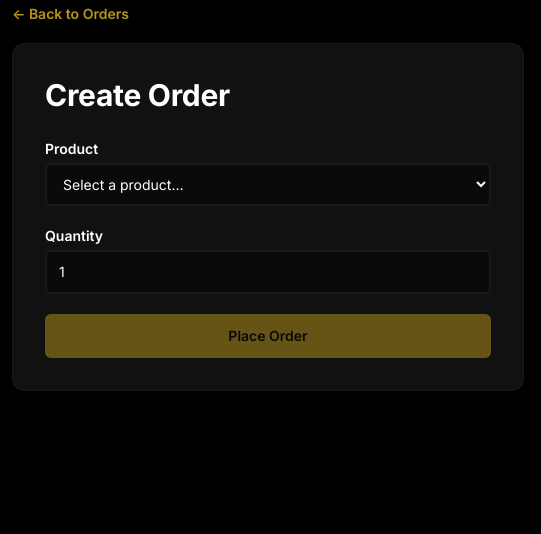
it: CreateOrder › updates estimated total when quantity changes
Select "Wireless Keyboard — $79.99" in the dropdown labelled "Product" at (268, 185), box top-left (45, 163), bottom-right (491, 206)
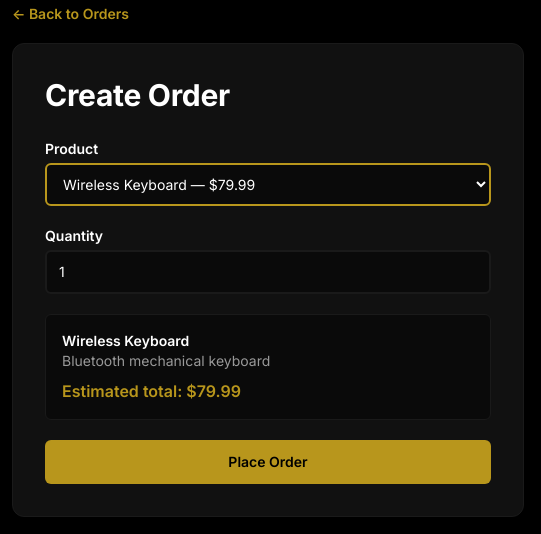
Replace the text in the number field labelled "Quantity" with "3" at (268, 272), box top-left (45, 250), bottom-right (491, 294)
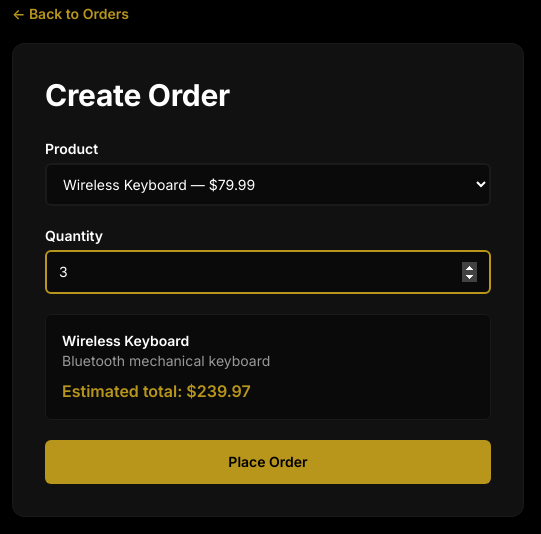
Expected: the text "Estimated total: $239.97" is shown, top-left (62, 381), bottom-right (251, 401)
